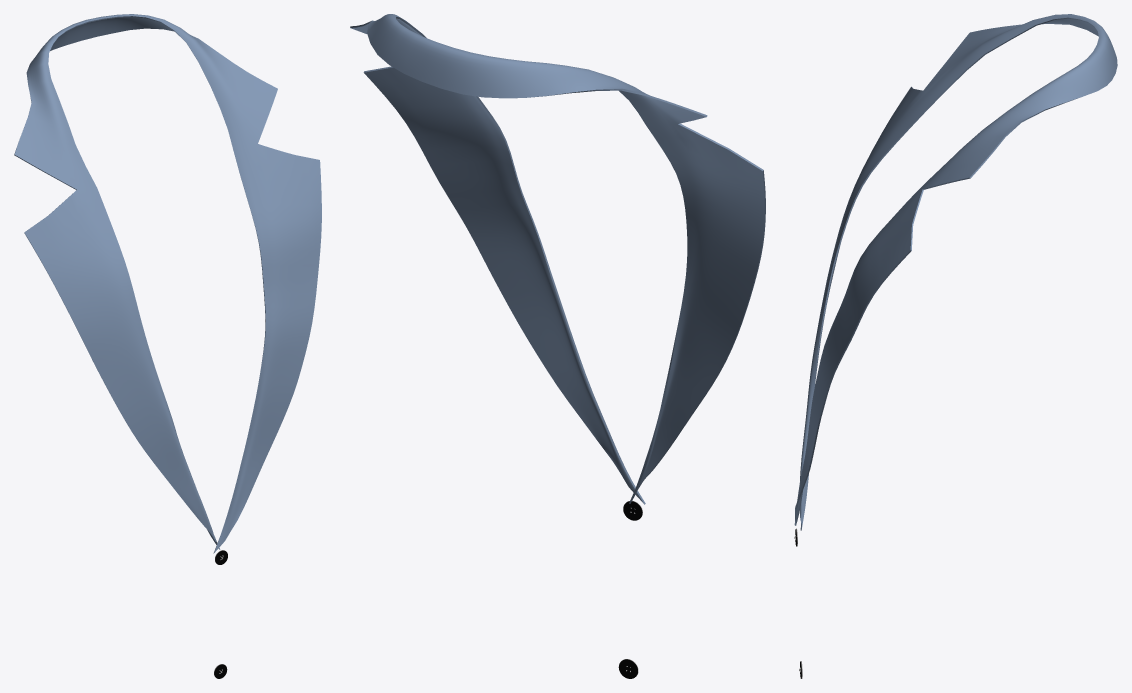
Rendered from SM_CarlosSA_Jacket_SingleBreasted_Lapel_Notched9CM.fbx.
3 renders of one model, left to right at view 1: azimuth 30°, elevation 25°; view 2: azimuth 150°, elevation 25°; view 3: azimuth 270°, elevation 25°, orthographic. The views are drawn at different scales.
Visible parts, largest first — view 1: SM_CarlosSA_Jacket_SingleBreasted_Lapel_Notched9CM; view 2: SM_CarlosSA_Jacket_SingleBreasted_Lapel_Notched9CM; view 3: SM_CarlosSA_Jacket_SingleBreasted_Lapel_Notched9CM.
Boxes of the visible parts, x1,y1,x2,y2 form: SM_CarlosSA_Jacket_SingleBreasted_Lapel_Notched9CM: (14, 14, 321, 678); SM_CarlosSA_Jacket_SingleBreasted_Lapel_Notched9CM: (350, 14, 765, 678); SM_CarlosSA_Jacket_SingleBreasted_Lapel_Notched9CM: (794, 14, 1117, 678).
Size of the model in its own units: 0.3119 by 0.5674 by 0.2594.
